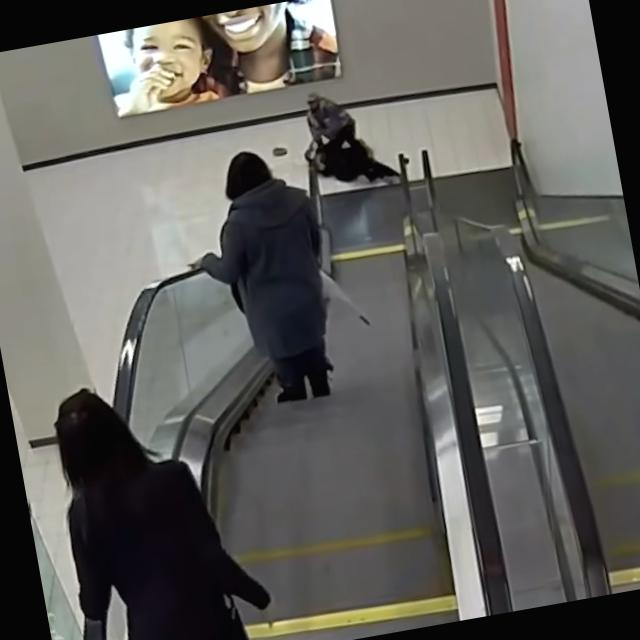person: (41, 362, 281, 640), (177, 141, 349, 413), (304, 126, 398, 192), (300, 84, 360, 158)
